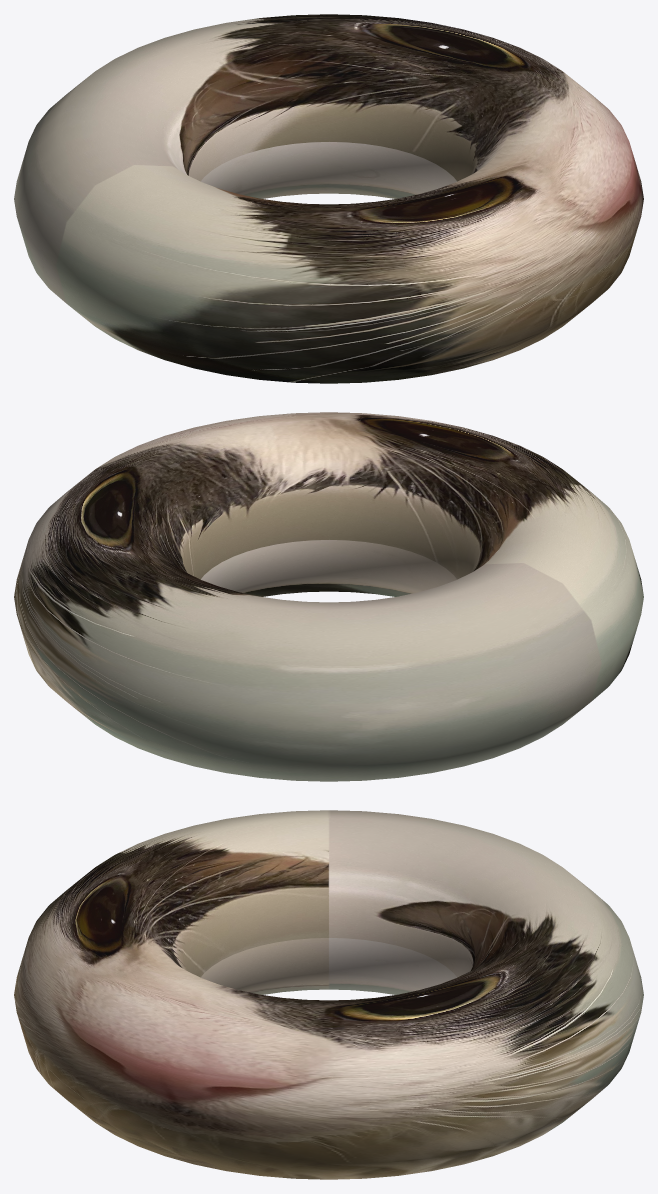
File: test_donut.glb
The picture shows the model from 3 angles, top to bottom: view 1: azimuth 30°, elevation 25°; view 2: azimuth 150°, elevation 25°; view 3: azimuth 270°, elevation 25°; orthographic projection.
Parts seen in each view (by area): view 1: Torus; view 2: Torus; view 3: Torus.
Part boxes in pixels (x1,y1,x2,y2): Torus: (14,14,643,383); Torus: (14,412,643,781); Torus: (14,810,643,1179).
Bounding box in the file's own units: 2.8 × 0.8 × 2.8.
Materials: 1 (1 with a texture image).
